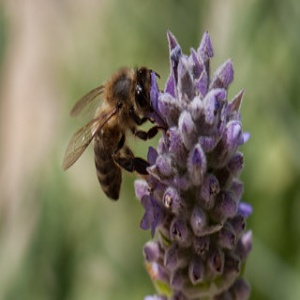bee: (61, 66, 163, 204)
